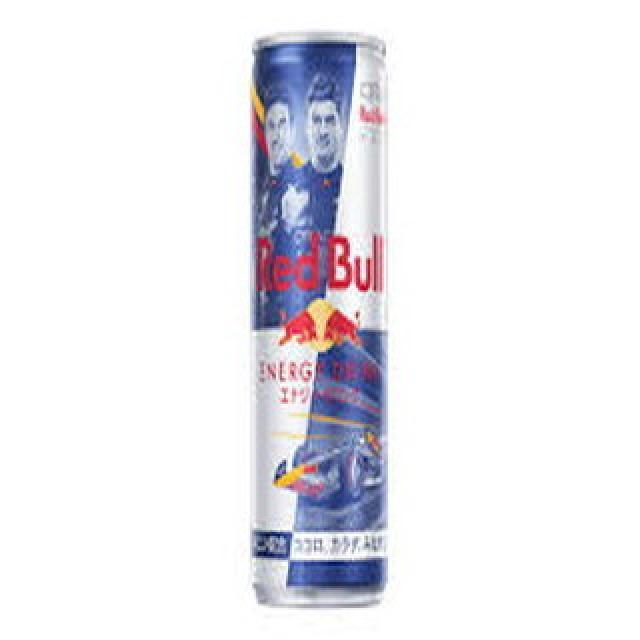can: (237, 24, 405, 625)
